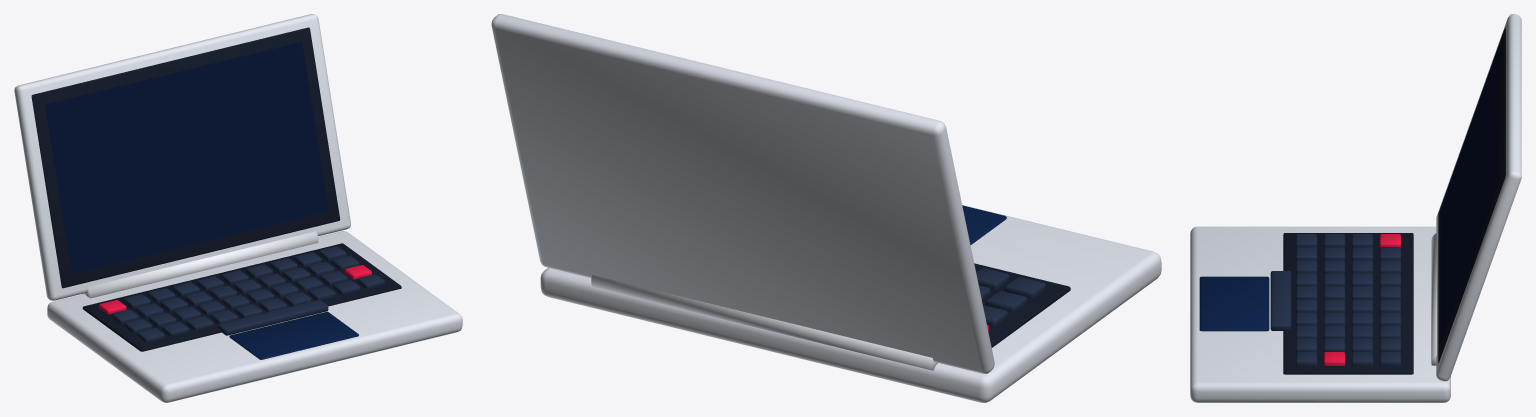
Rendered from screen-laptop.glb.
3 renders of one model, left to right at view 1: azimuth 30°, elevation 25°; view 2: azimuth 150°, elevation 25°; view 3: azimuth 270°, elevation 25°, orthographic. The views are drawn at different scales.
Parts seen in each view (by area): view 1: LaptopCodeScreen, LaptopBase, LaptopLid, LaptopBezel, LaptopKbdWell, LaptopTrackpad, LaptopHinge, Key_Space; view 2: LaptopLid, LaptopBase, LaptopHinge, LaptopKbdWell, LaptopTrackpad, Key_2_0, Key_3_0; view 3: LaptopBase, LaptopCodeScreen, LaptopKbdWell, LaptopLid, LaptopTrackpad, LaptopBezel, Key_Space, LaptopHinge, Key_1_1, Key_1_2, Key_1_3, Key_1_4 (+32 smaller).
Boxes of the visible parts, x1=… form: LaptopCodeScreen: x1=45, y1=42, x2=328, y2=273; LaptopBase: x1=47, y1=231, x2=462, y2=402; LaptopLid: x1=14, y1=14, x2=350, y2=300; LaptopBezel: x1=31, y1=27, x2=340, y2=288; LaptopKbdWell: x1=82, y1=243, x2=401, y2=351; LaptopTrackpad: x1=229, y1=311, x2=358, y2=359; LaptopHinge: x1=82, y1=231, x2=318, y2=298; Key_Space: x1=217, y1=299, x2=328, y2=335; LaptopLid: x1=491, y1=14, x2=994, y2=373; LaptopBase: x1=540, y1=205, x2=1161, y2=402; LaptopHinge: x1=591, y1=275, x2=937, y2=370; LaptopKbdWell: x1=974, y1=263, x2=1070, y2=347; LaptopTrackpad: x1=962, y1=205, x2=1006, y2=244; Key_2_0: x1=986, y1=290, x2=1026, y2=312; Key_3_0: x1=1005, y1=277, x2=1045, y2=298; LaptopBase: x1=1190, y1=226, x2=1450, y2=402; LaptopCodeScreen: x1=1440, y1=44, x2=1499, y2=345; LaptopKbdWell: x1=1283, y1=233, x2=1413, y2=374; LaptopLid: x1=1436, y1=14, x2=1521, y2=381; LaptopTrackpad: x1=1199, y1=276, x2=1269, y2=331; LaptopBezel: x1=1438, y1=28, x2=1505, y2=363; Key_Space: x1=1270, y1=271, x2=1291, y2=330; LaptopHinge: x1=1431, y1=233, x2=1436, y2=365; Key_1_1: x1=1351, y1=247, x2=1373, y2=260; Key_1_2: x1=1351, y1=260, x2=1373, y2=273; Key_1_3: x1=1351, y1=273, x2=1373, y2=286; Key_1_4: x1=1351, y1=286, x2=1373, y2=299.
Size of the model in its own units: 1.64 by 1.1 by 1.42.
